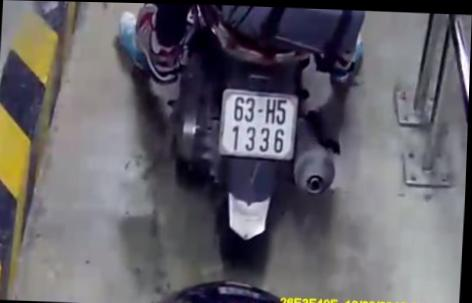LP: (217, 85, 302, 162)
